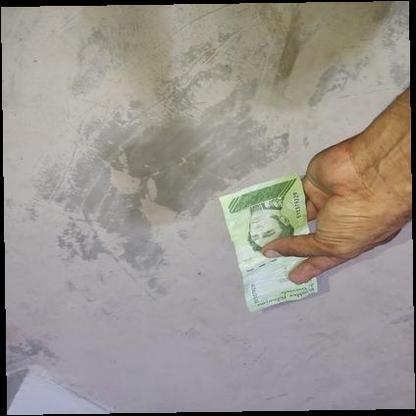fifty-front-vef: (219, 172, 320, 312)
